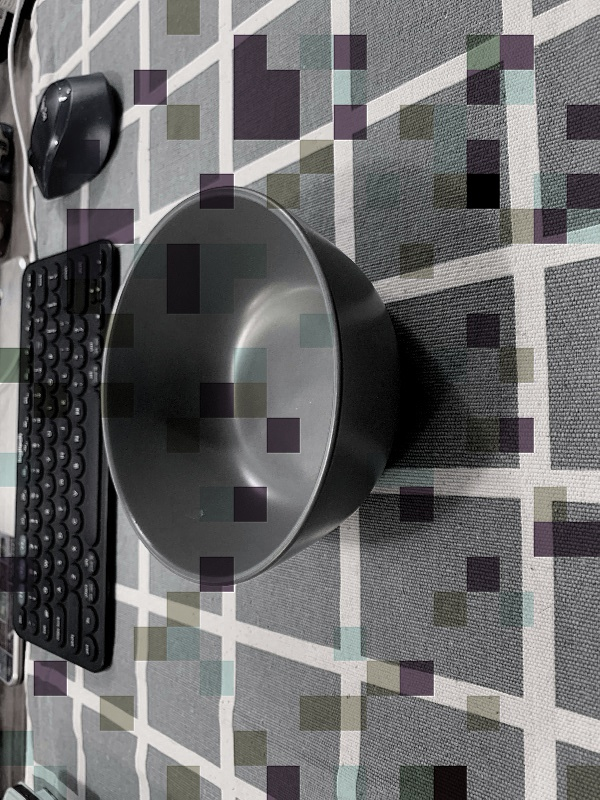bowl_big: (97, 177, 409, 592)
